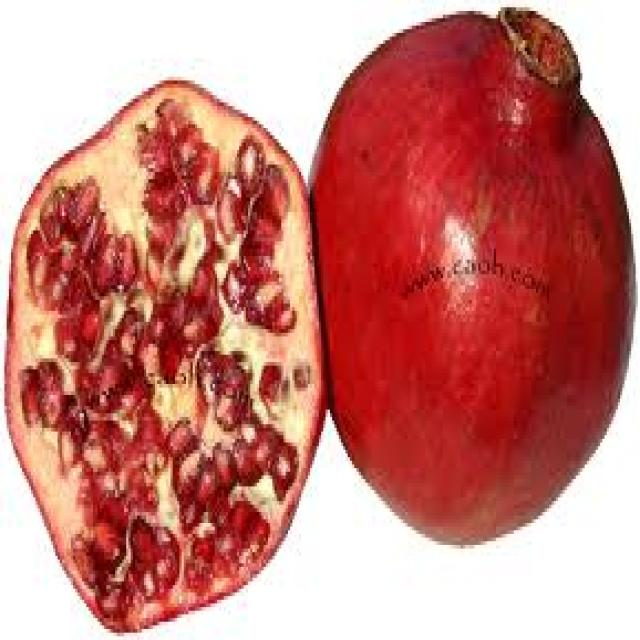pomegranate: (0, 4, 638, 632)
